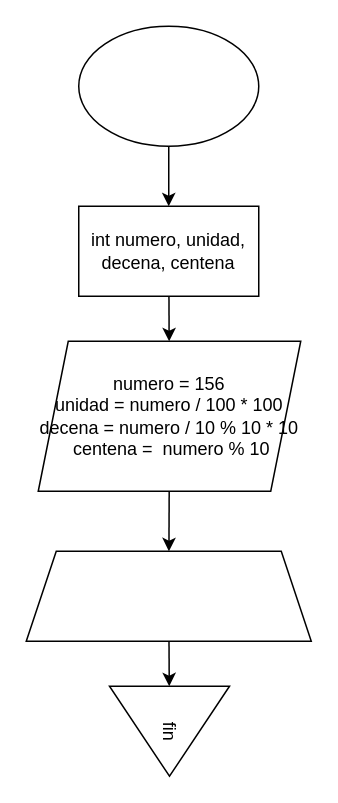
This 338x803 diagram has some shape labels left out. The shapes that lost their labels are listed below. From the top down, each one's centre as x and y in pixels, then its label:
the point at 168,85: Descomposición
the point at 168,595: "Numero: %d - %d - %d - %d", numero, unidad, decena, centena
